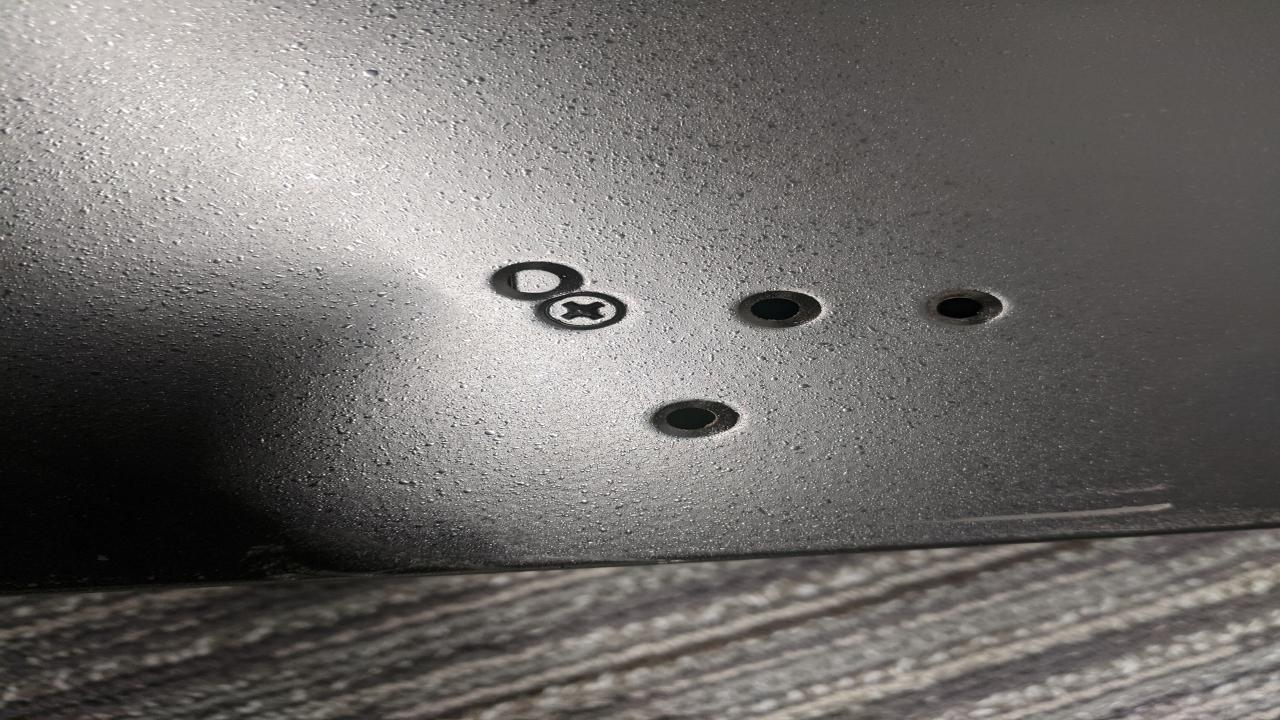CRS: (544, 292, 628, 331)
